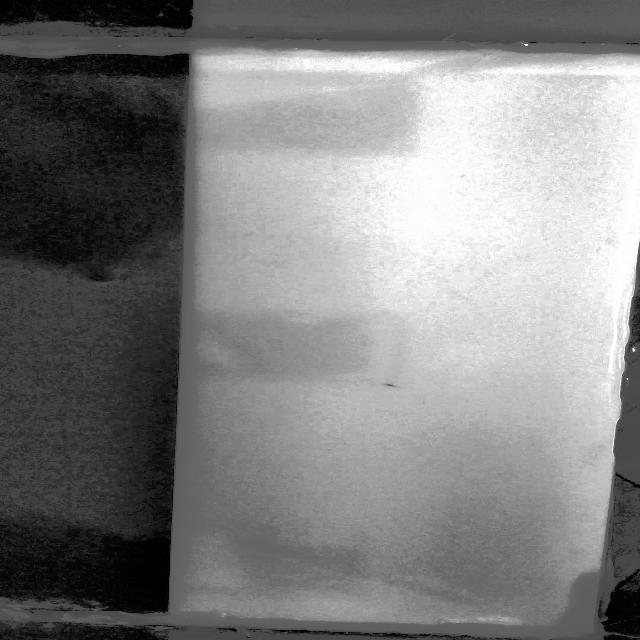shrimp: (381, 380, 396, 389)
